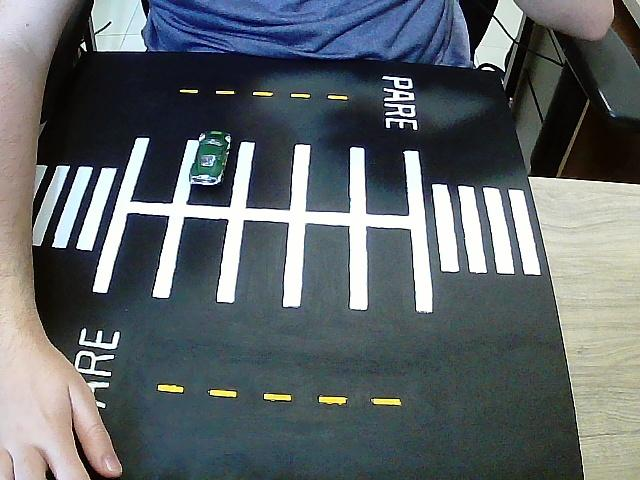Carro: (189, 131, 231, 186)
